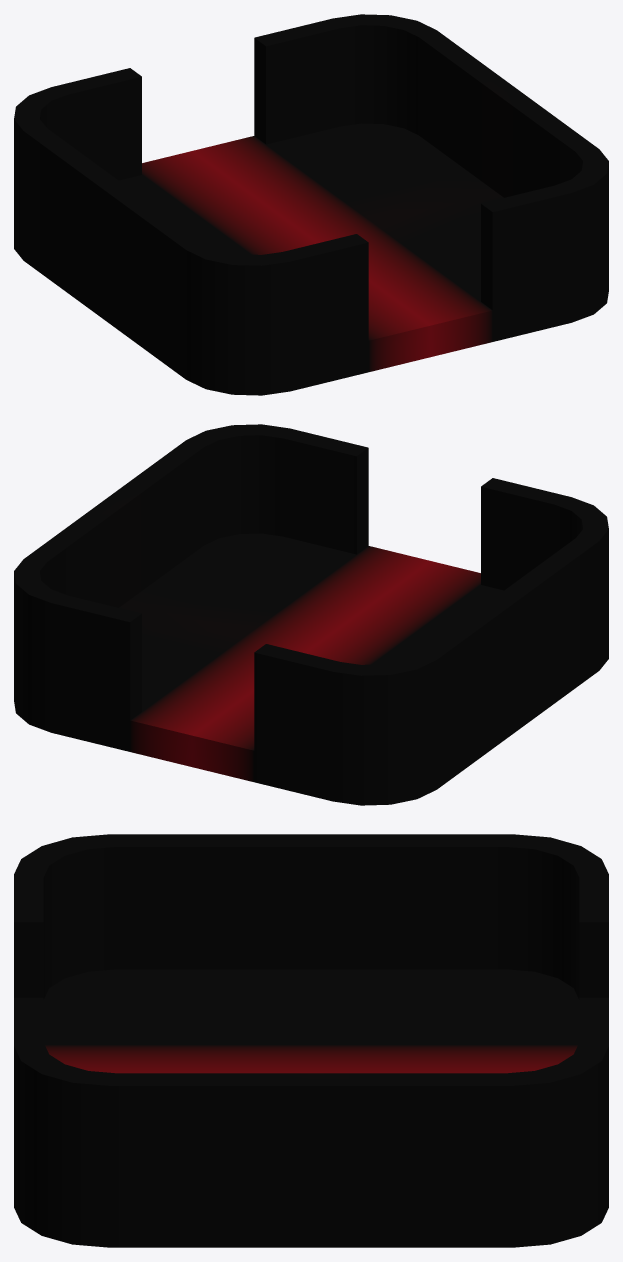
File: Tile_Straight.fbx
3 views of the same model, one above another, from view 1: azimuth 30°, elevation 25°; view 2: azimuth 150°, elevation 25°; view 3: azimuth 270°, elevation 25° (orthographic). The views are drawn at different scales.
Visible parts, largest first — view 1: St_room; view 2: St_room; view 3: St_room.
Boxes of the visible parts, <box> form: St_room: <box>14,14,608,395</box>; St_room: <box>14,424,608,805</box>; St_room: <box>14,834,608,1247</box>.
Bounding box in the file's own units: 100 × 30 × 100.
